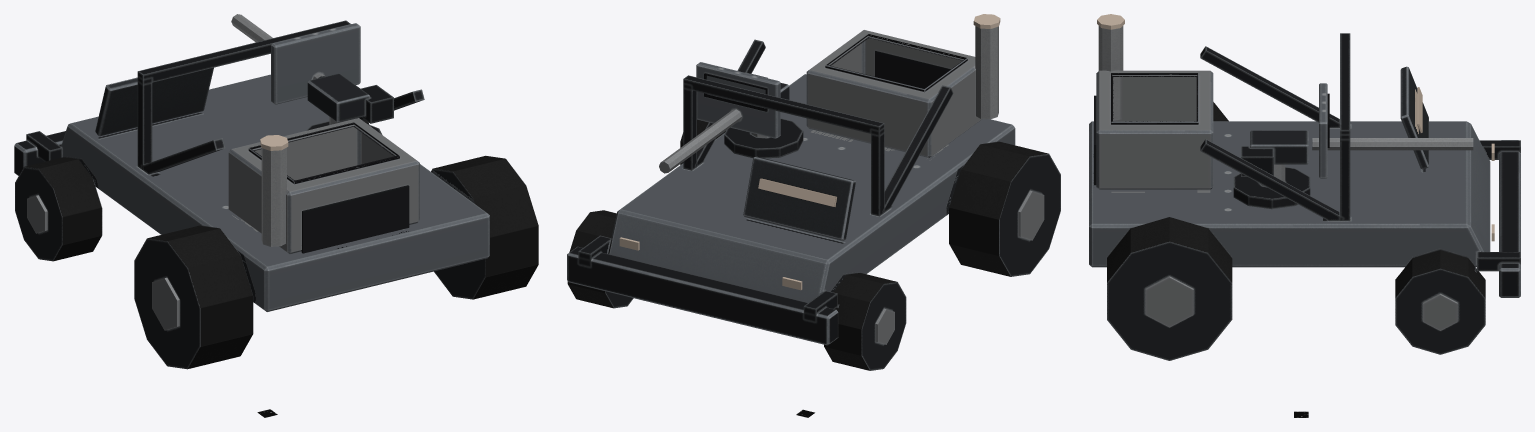
The model's file is chs_jackal.fbx.
3 renders of one model, left to right at view 1: azimuth 30°, elevation 25°; view 2: azimuth 150°, elevation 25°; view 3: azimuth 270°, elevation 25°, orthographic. The views are drawn at different scales.
Visible parts, largest first — view 1: base_bar, turret_bar; view 2: base_bar, turret_bar; view 3: base_bar, turret_bar.
Part boxes in pixels (x1=…): base_bar: x1=14, y1=20, x2=538, y2=369; turret_bar: x1=231, y1=14, x2=393, y2=134; base_bar: x1=567, y1=14, x2=1060, y2=370; turret_bar: x1=659, y1=62, x2=803, y2=173; base_bar: x1=1089, y1=14, x2=1520, y2=360; turret_bar: x1=1233, y1=83, x2=1473, y2=209.
Bounding box in the file's own units: 518 × 530 × 590.
Materials: 2 (2 with a texture image).
